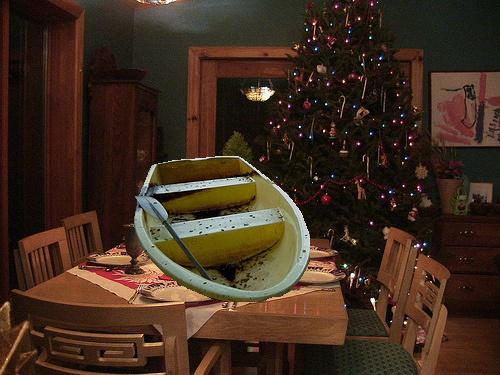tampered: (135, 157, 310, 302)
